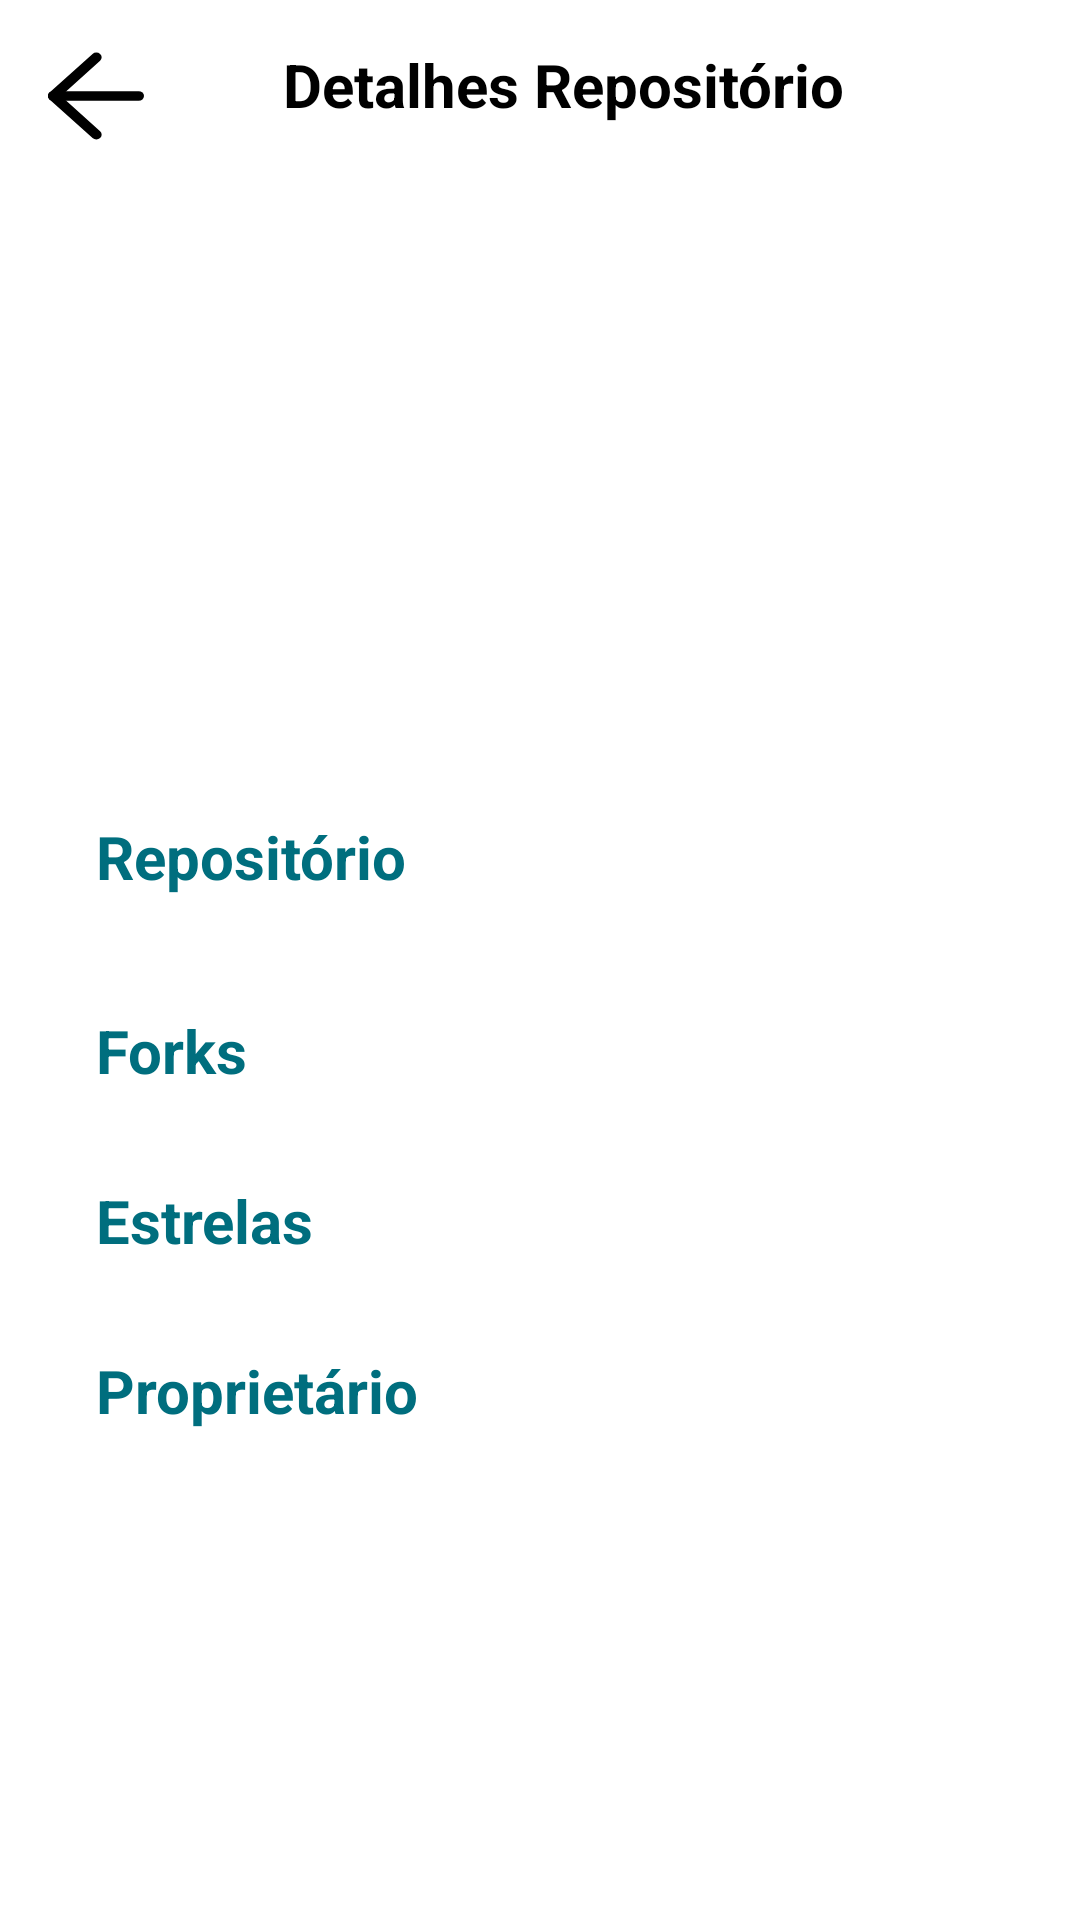

Screen size 1080px x 1920px. Icon name, then its center in pixels as (x=x, y=y):
voltar: (x=96, y=96)
